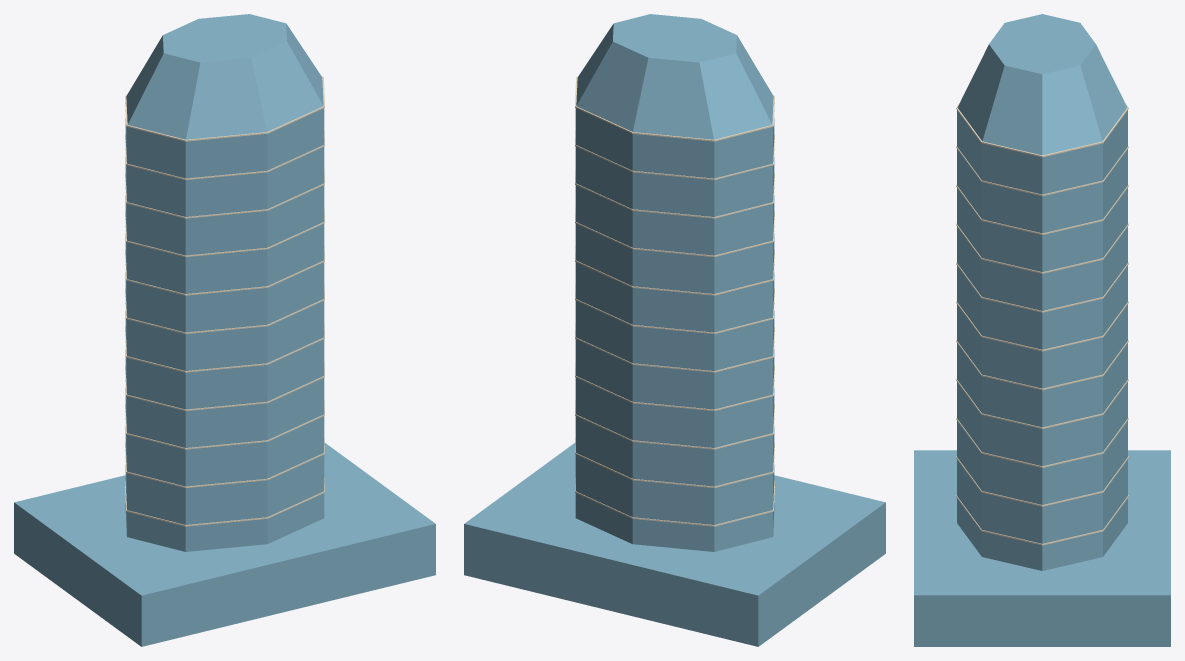
Rendered from modern-5-lod2.glb.
3 renders of one model, left to right at view 1: azimuth 30°, elevation 25°; view 2: azimuth 150°, elevation 25°; view 3: azimuth 270°, elevation 25°, orthographic.
Visible parts, largest first — view 1: modern-5_architecture; view 2: modern-5_architecture; view 3: modern-5_architecture.
Boxes of the visible parts, x1=… form: modern-5_architecture: x1=14, y1=14, x2=435, y2=646; modern-5_architecture: x1=464, y1=14, x2=885, y2=646; modern-5_architecture: x1=914, y1=14, x2=1170, y2=646.
Size of the model in its own units: 24 by 41 by 18.
